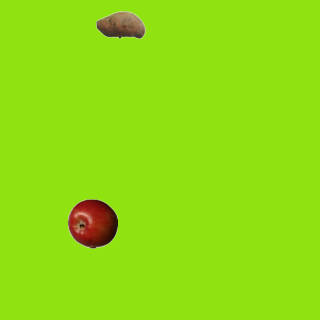Apple Braeburn: (67, 198, 117, 248)
Potato Sweet: (95, 0, 145, 49)
